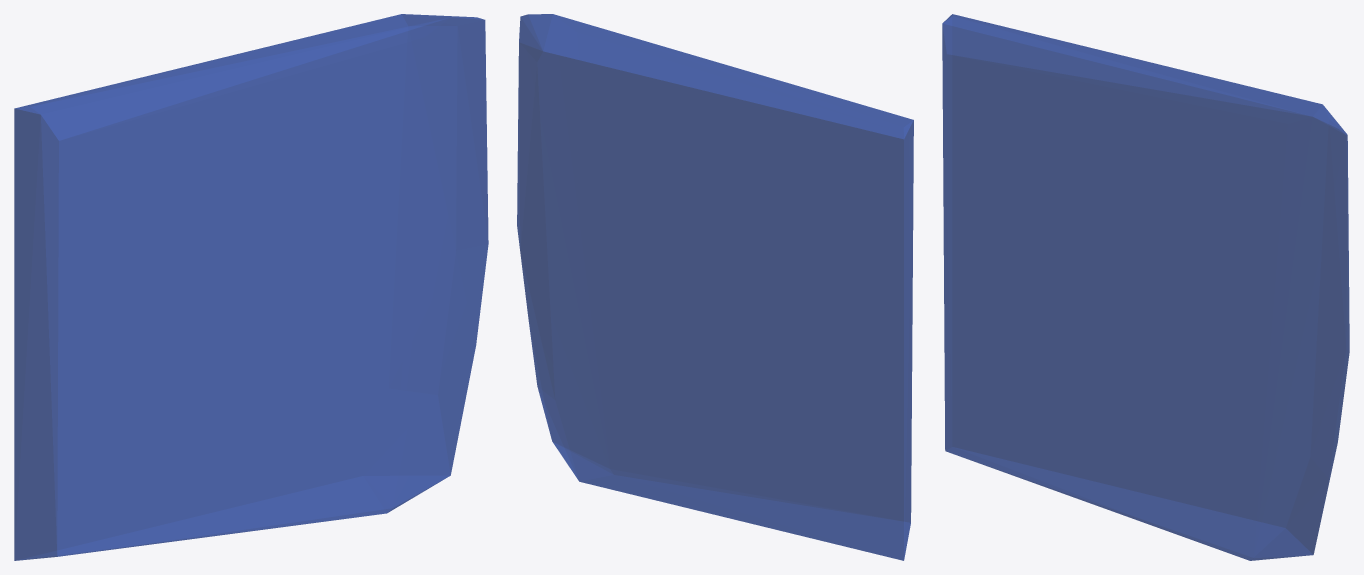
3 views of the same model, side by side, from view 1: azimuth 30°, elevation 25°; view 2: azimuth 150°, elevation 25°; view 3: azimuth 330°, elevation 25° (orthographic). The views are drawn at different scales.
Visible parts, largest first — view 1: Shape_IndexedFaceSet.019_Shape_IndexedFaceSet.7505; view 2: Shape_IndexedFaceSet.019_Shape_IndexedFaceSet.7505; view 3: Shape_IndexedFaceSet.019_Shape_IndexedFaceSet.7505.
Part boxes in pixels (<box>): Shape_IndexedFaceSet.019_Shape_IndexedFaceSet.7505: <box>14,14,488,560</box>; Shape_IndexedFaceSet.019_Shape_IndexedFaceSet.7505: <box>517,14,913,560</box>; Shape_IndexedFaceSet.019_Shape_IndexedFaceSet.7505: <box>942,14,1349,560</box>.
Size of the model in its own units: 0.5089 by 0.5243 by 0.0621.
